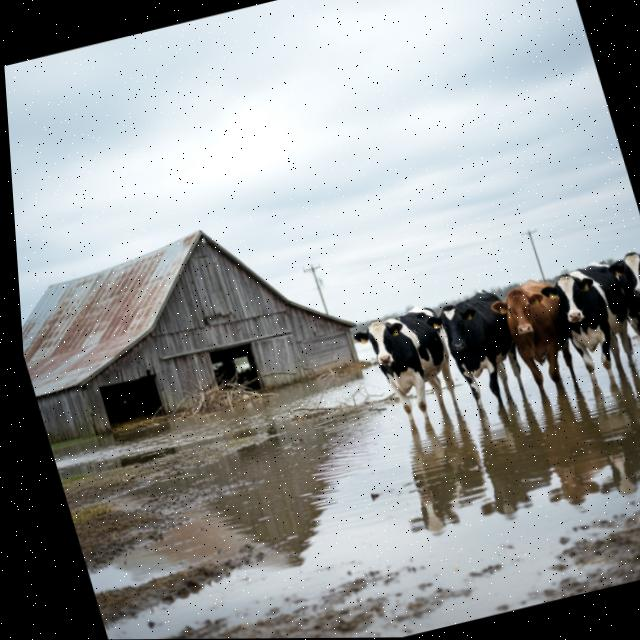cow: (341, 297, 473, 437), (528, 251, 640, 403), (421, 283, 538, 420), (482, 269, 592, 412), (595, 244, 640, 387)
